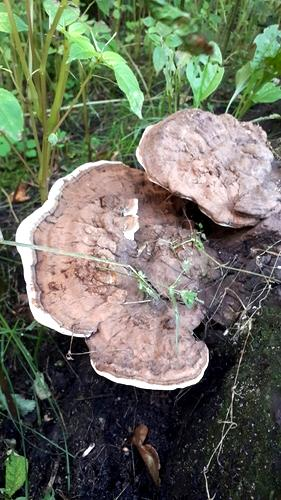Ganoderma - Fruit Body: (12, 157, 138, 389), (140, 106, 279, 232)
